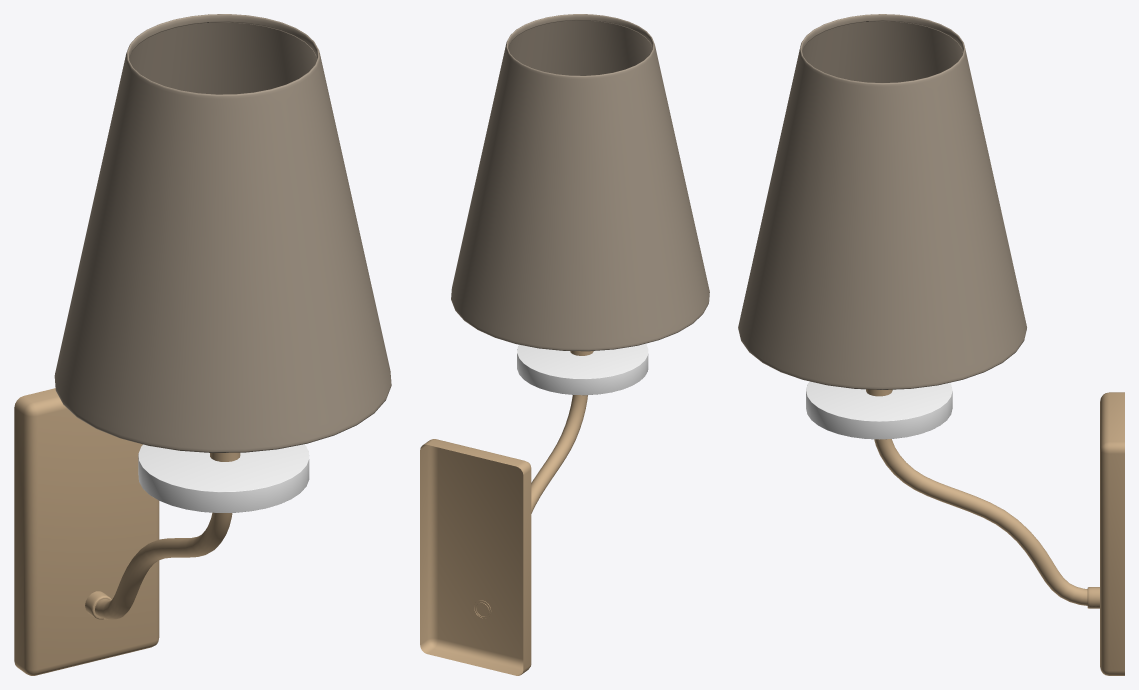
The model's file is ARMANDO_AP1.1_gold.fbx.
3 renders of one model, left to right at view 1: azimuth 30°, elevation 25°; view 2: azimuth 150°, elevation 25°; view 3: azimuth 270°, elevation 25°, orthographic. The views are drawn at different scales.
Parts seen in each view (by area): view 1: plafon, metal, glass; view 2: plafon, metal, glass; view 3: plafon, metal, glass.
Part boxes in pixels (bbox=[...]): plafon: bbox=[54, 14, 391, 452]; metal: bbox=[14, 388, 240, 675]; glass: bbox=[138, 444, 309, 512]; plafon: bbox=[451, 14, 709, 351]; metal: bbox=[420, 351, 593, 675]; glass: bbox=[517, 343, 648, 395]; plafon: bbox=[738, 14, 1026, 389]; metal: bbox=[866, 389, 1124, 675]; glass: bbox=[806, 381, 952, 439].
Size of the model in its own units: 16.07 by 36.93 by 21.5.
